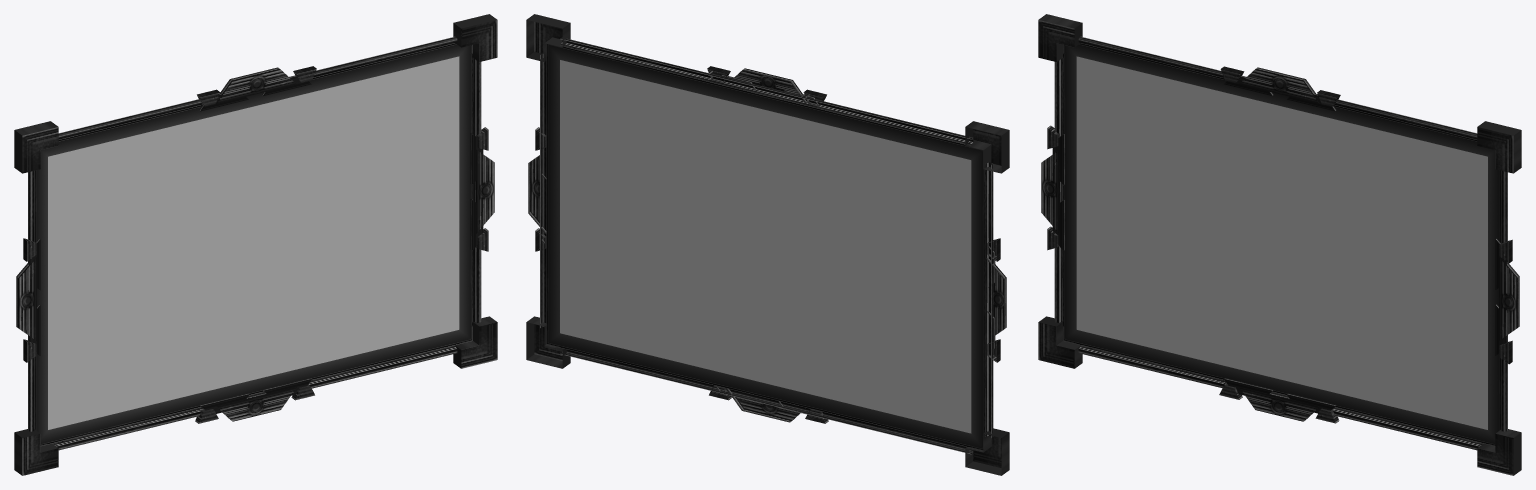
File: Canvas_fix_002.fbx
The picture shows the model from 3 angles, left to right: view 1: azimuth 30°, elevation 25°; view 2: azimuth 150°, elevation 25°; view 3: azimuth 330°, elevation 25°; orthographic projection.
Visible parts, largest first — view 1: Canvas_fix_002; view 2: Canvas_fix_002; view 3: Canvas_fix_002.
Part boxes in pixels (box(x1,y1,x2,y2)): Canvas_fix_002: box(14, 14, 497, 475); Canvas_fix_002: box(526, 14, 1009, 475); Canvas_fix_002: box(1038, 14, 1521, 475).
Bounding box in the file's own units: 197 × 135 × 5.71.
